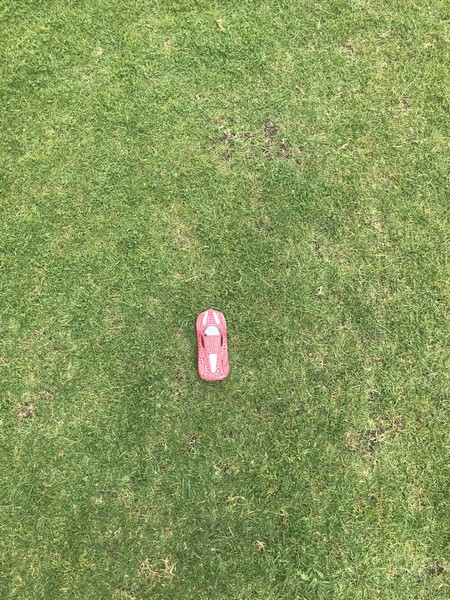RC: (194, 309, 234, 382)
